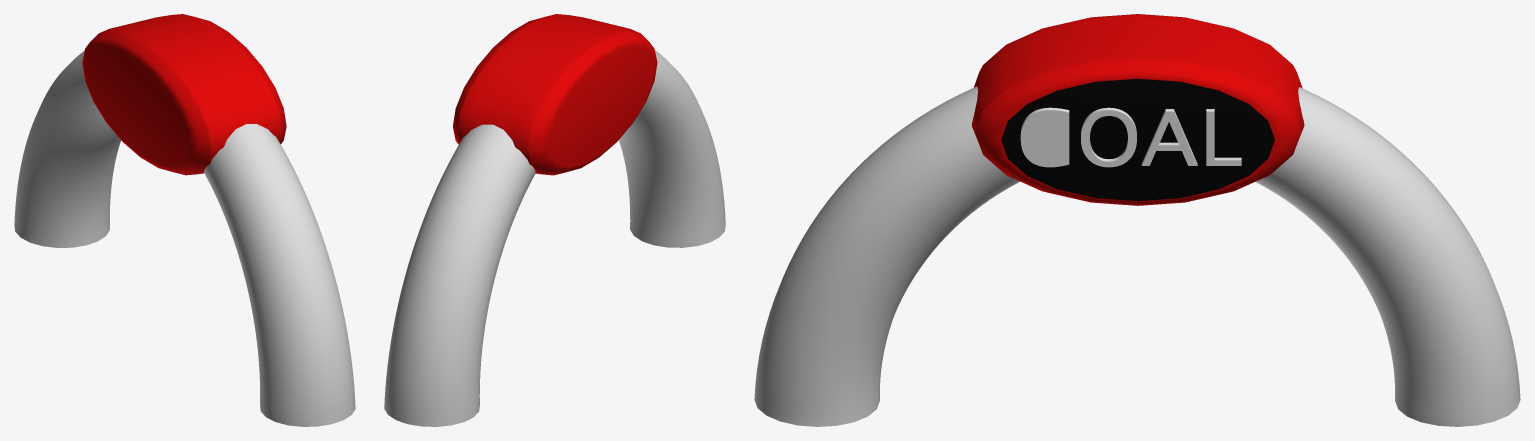
File: goal.fbx
3 renders of one model, left to right at view 1: azimuth 30°, elevation 25°; view 2: azimuth 150°, elevation 25°; view 3: azimuth 270°, elevation 25°, orthographic. The views are drawn at different scales.
Visible parts, largest first — view 1: pCylinder2, pCylinder1, pCylinder3; view 2: pCylinder3, pCylinder1, pCylinder2; view 3: pCylinder1, pCylinder2, pCylinder3, typeMesh2.
Boxes of the visible parts, box(x1,y1,x2,y2) form: pCylinder2: box(204, 124, 355, 426); pCylinder1: box(82, 14, 286, 175); pCylinder3: box(14, 51, 120, 247); pCylinder3: box(384, 124, 535, 426); pCylinder1: box(453, 14, 657, 175); pCylinder2: box(619, 50, 725, 247); pCylinder1: box(972, 14, 1304, 205); pCylinder2: box(754, 86, 1019, 426); pCylinder3: box(1255, 87, 1520, 426); typeMesh2: box(1020, 107, 1241, 167).
Bounding box in the file's own units: 1.8 × 4.9 × 9.3.
